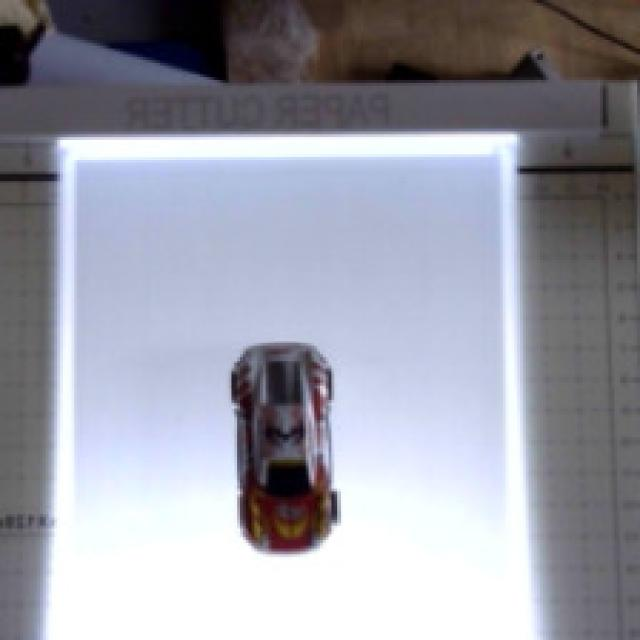Red Car: (203, 315, 392, 565)
